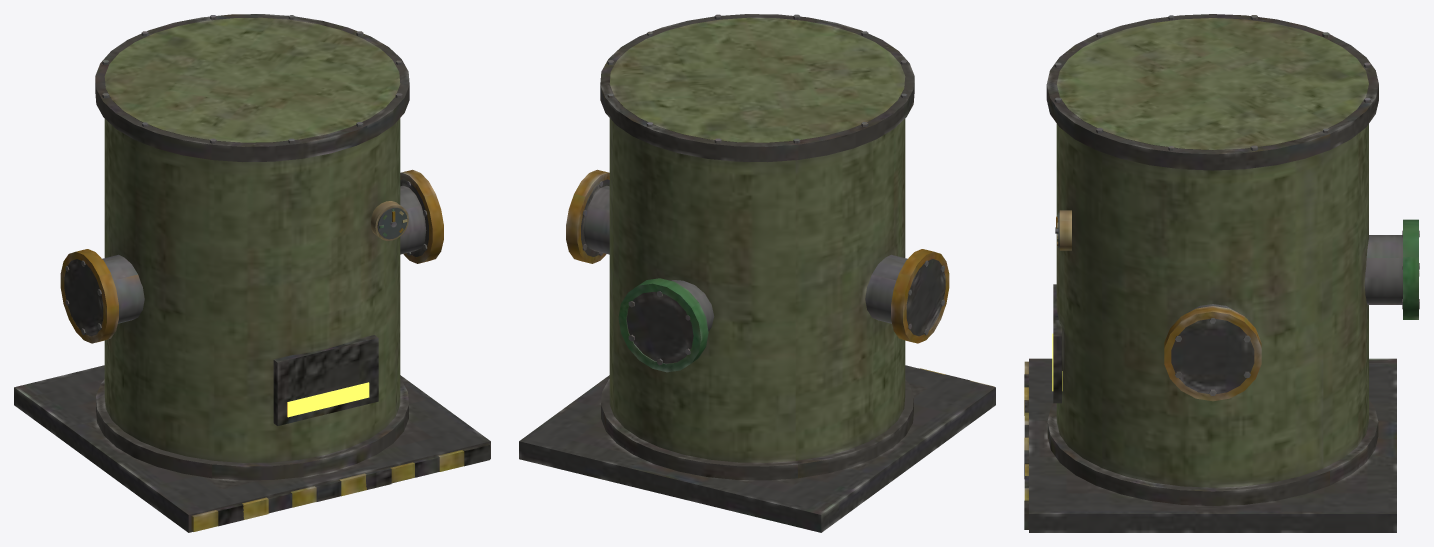
The model's file is feDistillTower.glb.
The picture shows the model from 3 angles, left to right: view 1: azimuth 30°, elevation 25°; view 2: azimuth 150°, elevation 25°; view 3: azimuth 270°, elevation 25°; orthographic projection. The views are drawn at different scales.
Parts seen in each view (by area): view 1: feDistillTower_Base; view 2: feDistillTower_Base; view 3: feDistillTower_Base.
Part boxes in pixels (box(x1,y1,x2,y2)): feDistillTower_Base: box(14, 14, 490, 532); feDistillTower_Base: box(519, 14, 995, 532); feDistillTower_Base: box(1024, 14, 1419, 532).
Size of the model in its own units: 1.01 by 1.01 by 0.9675.
2 materials, 1 textured.
